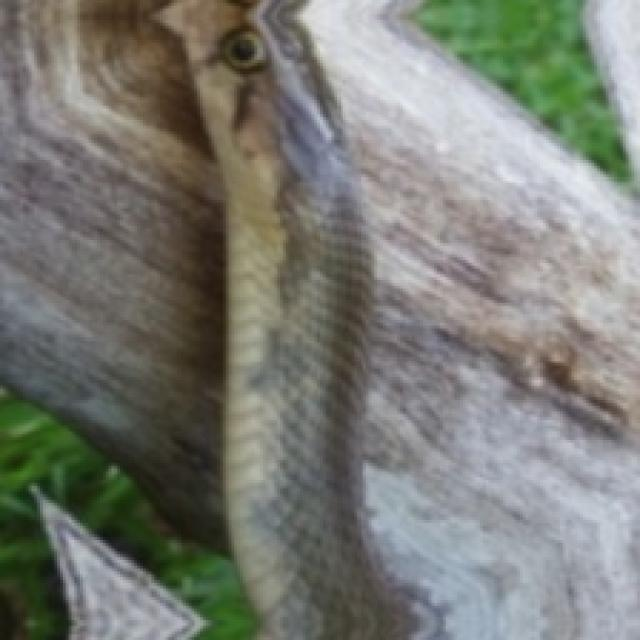reddish rat snake: (157, 0, 397, 637)
